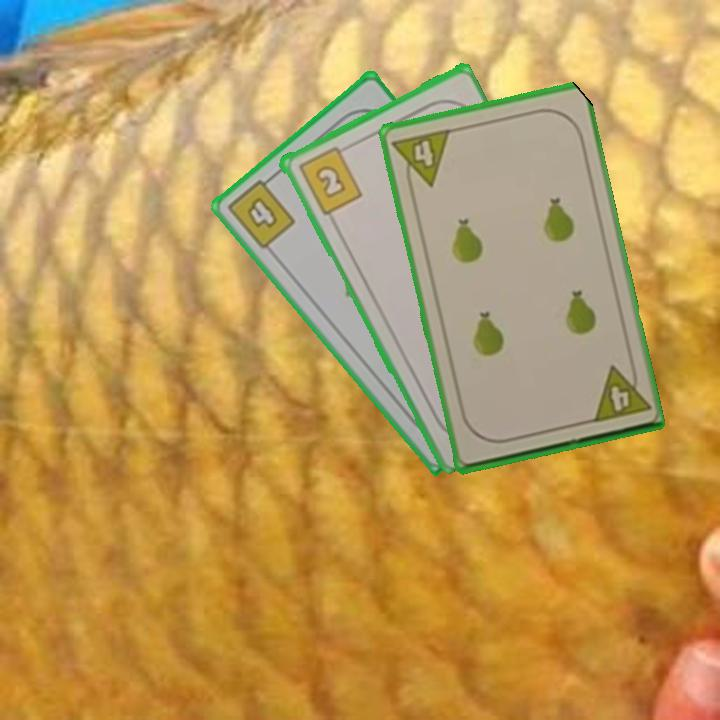2b: (294, 141, 365, 218)
4b: (223, 171, 298, 252)
4p: (389, 125, 453, 194), (587, 359, 652, 426)
